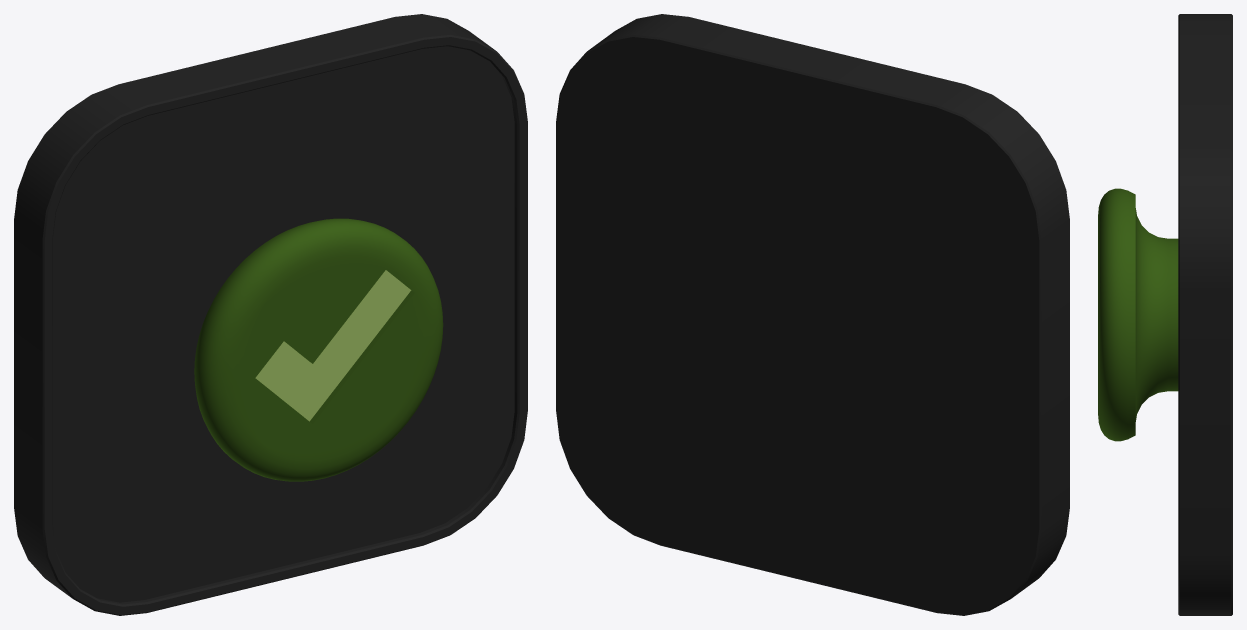
File: confirmButton.fbx
The picture shows the model from 3 angles, left to right: view 1: azimuth 30°, elevation 25°; view 2: azimuth 150°, elevation 25°; view 3: azimuth 270°, elevation 25°; orthographic projection. The views are drawn at different scales.
Parts seen in each view (by area): view 1: confirmButtonBase, confirmButton; view 2: confirmButtonBase; view 3: confirmButtonBase, confirmButton.
Boxes of the visible parts, x1,y1,x2,y2 form: confirmButtonBase: (14,14,527,615); confirmButton: (194,218,443,481); confirmButtonBase: (556,14,1069,615); confirmButtonBase: (1178,14,1232,615); confirmButton: (1098,188,1178,441).
Size of the model in its own units: 200 by 200 by 53.1.
Materials: 1 (1 with a texture image).
